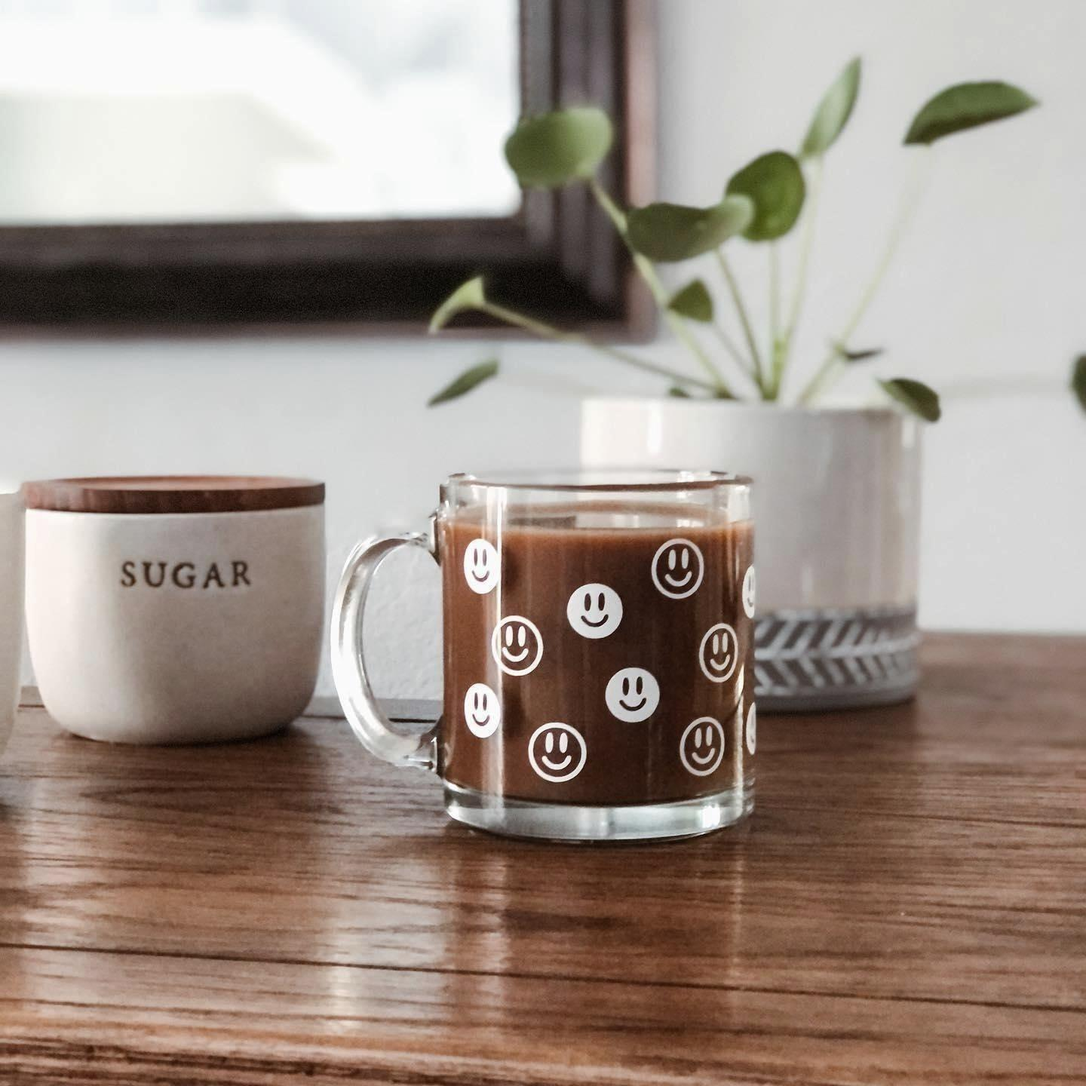glass-mug: (324, 452, 779, 862)
